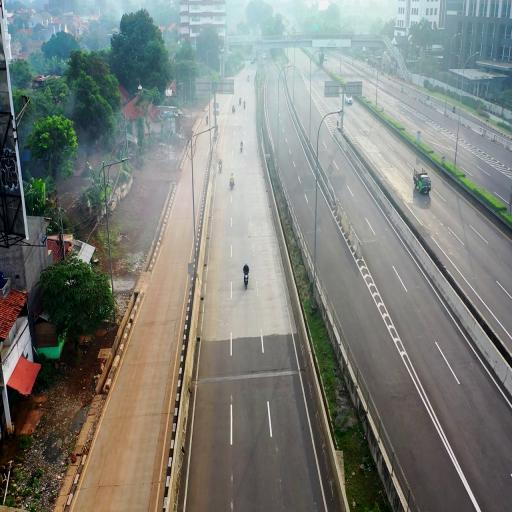vehicle: (413, 170, 431, 196)
